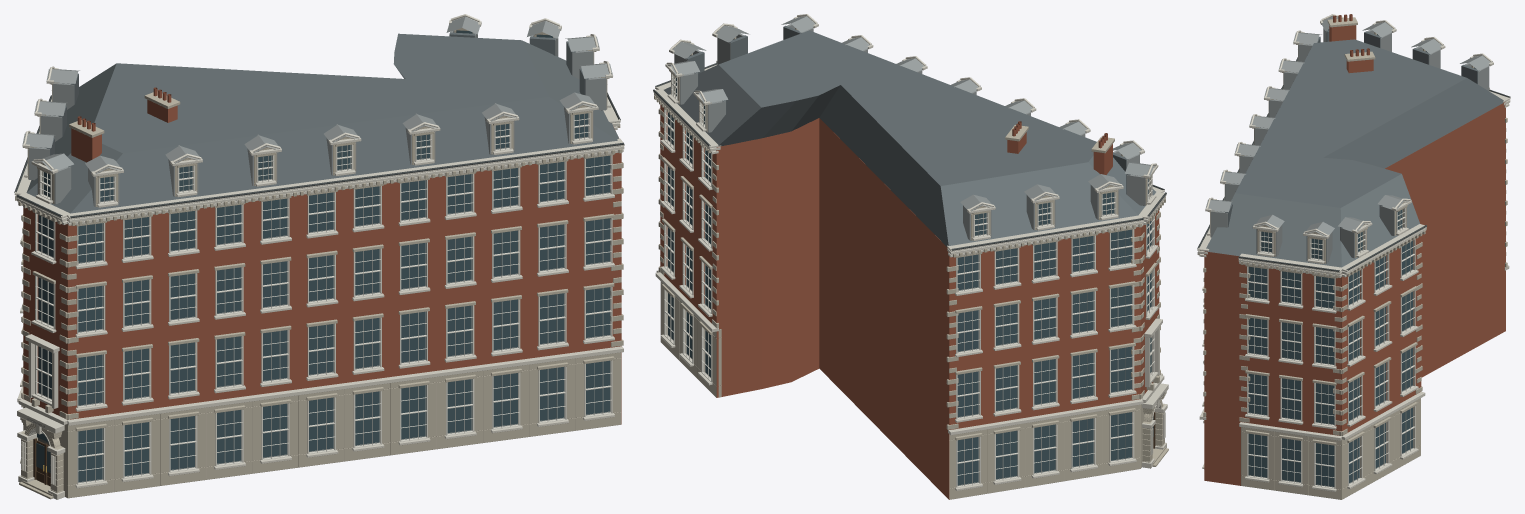
The model's file is cow-exterior-52510930330a.glb.
3 renders of one model, left to right at view 1: azimuth 30°, elevation 25°; view 2: azimuth 150°, elevation 25°; view 3: azimuth 270°, elevation 25°, orthographic. The views are drawn at different scales.
Visible parts, largest first — view 1: COW.001; view 2: COW.001; view 3: COW.001.
Boxes of the visible parts, x1,y1,x2,y2 form: COW.001: (14, 14, 624, 499); COW.001: (653, 14, 1168, 499); COW.001: (1197, 14, 1510, 499).
Bounding box in the file's own units: 38.05 × 22.48 × 22.3.
